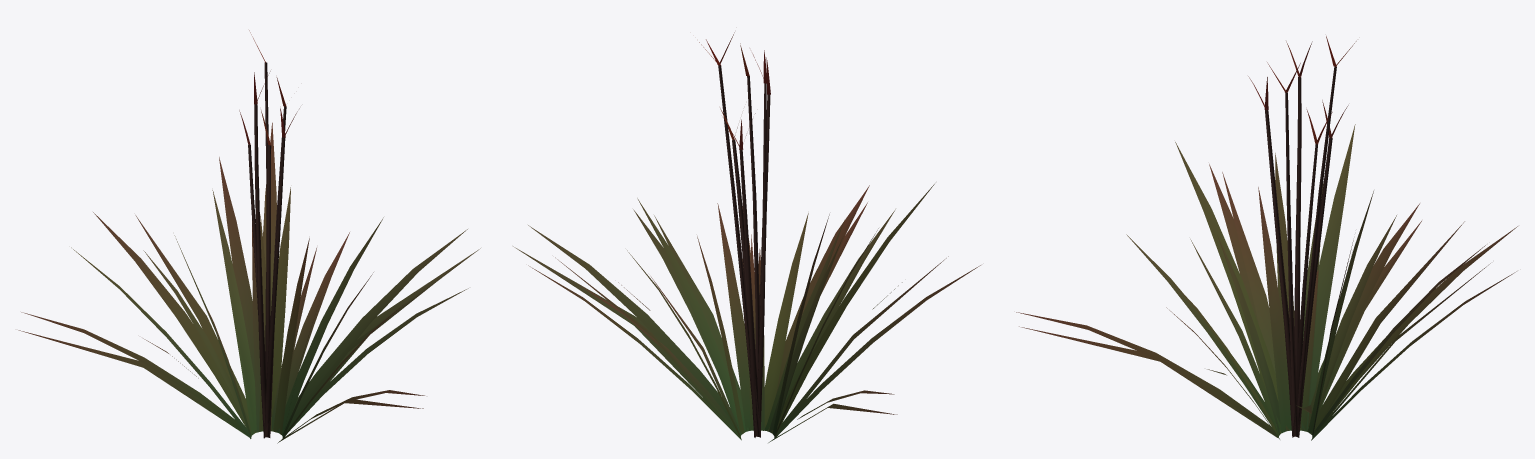
The model's file is harakeke.glb.
3 views of the same model, side by side, from view 1: azimuth 30°, elevation 25°; view 2: azimuth 150°, elevation 25°; view 3: azimuth 270°, elevation 25° (orthographic). The views are drawn at different scales.
Visible parts, largest first — view 1: harakeke, harakeke-lo; view 2: harakeke, harakeke-lo; view 3: harakeke, harakeke-lo.
Boxes of the visible parts, x1,y1,x2,y2 form: harakeke: (21,71,468,442); harakeke-lo: (18,30,480,442); harakeke: (528,50,980,438); harakeke-lo: (513,32,948,442); harakeke: (1016,41,1517,439); harakeke-lo: (1019,36,1490,440).
Bounding box in the file's own units: 2.56 × 2.35 × 2.55.
